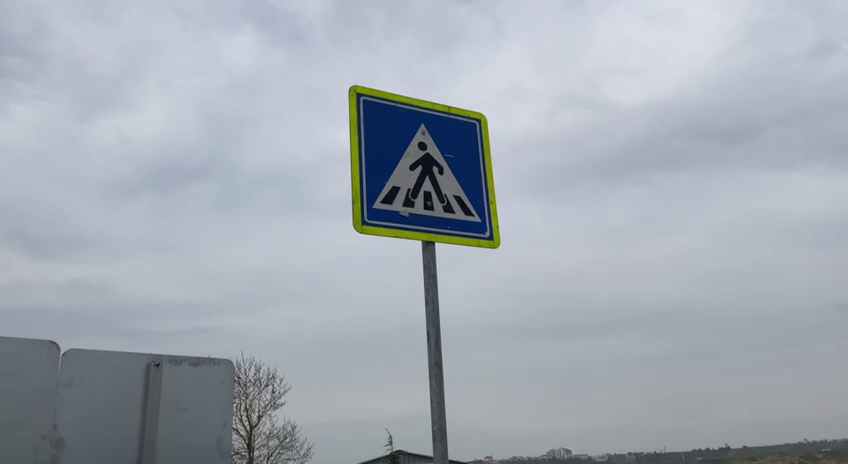pedestrianCrossing: (345, 81, 503, 251)
